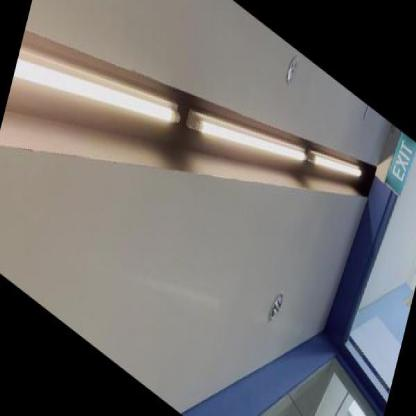light_on: (8, 0, 193, 216), (181, 42, 318, 232), (310, 122, 366, 206)
